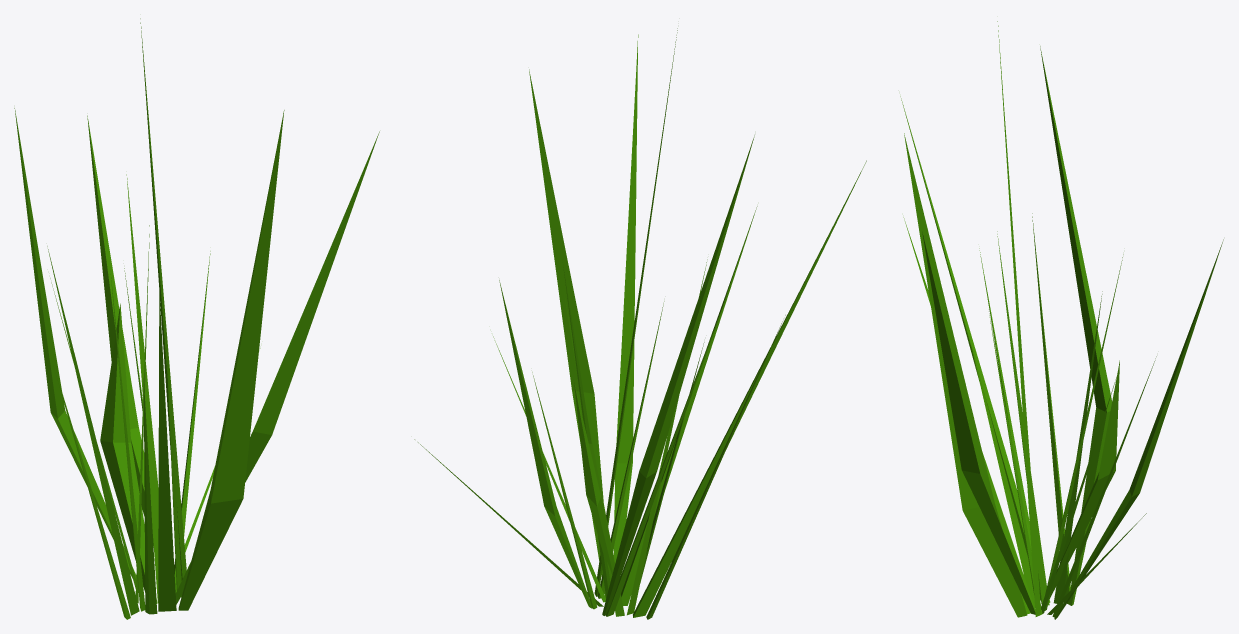
File: Grass_3.fbx
3 views of the same model, side by side, from view 1: azimuth 30°, elevation 25°; view 2: azimuth 150°, elevation 25°; view 3: azimuth 270°, elevation 25° (orthographic). The views are drawn at different scales.
Visible parts, largest first — view 1: Grass 3_LOD0; view 2: Grass 3_LOD0; view 3: Grass 3_LOD0.
Boxes of the visible parts, x1,y1,x2,y2 form: Grass 3_LOD0: (14, 18, 379, 619); Grass 3_LOD0: (414, 28, 866, 619); Grass 3_LOD0: (900, 21, 1223, 619).
Size of what is drawn, in the model's own units: 20.15 by 34.09 by 17.38.
